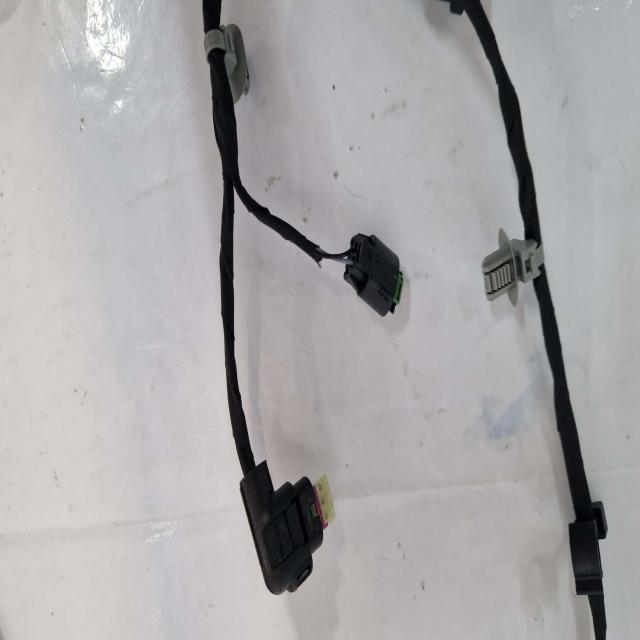Clip: (482, 232, 542, 308), (203, 23, 250, 103), (569, 502, 608, 591)
Connector: (240, 464, 333, 593), (346, 235, 403, 314)
Gape: (318, 227, 358, 267)
MHEV_N11_Cable: (205, 0, 326, 471), (426, 0, 543, 253), (533, 258, 600, 523)
